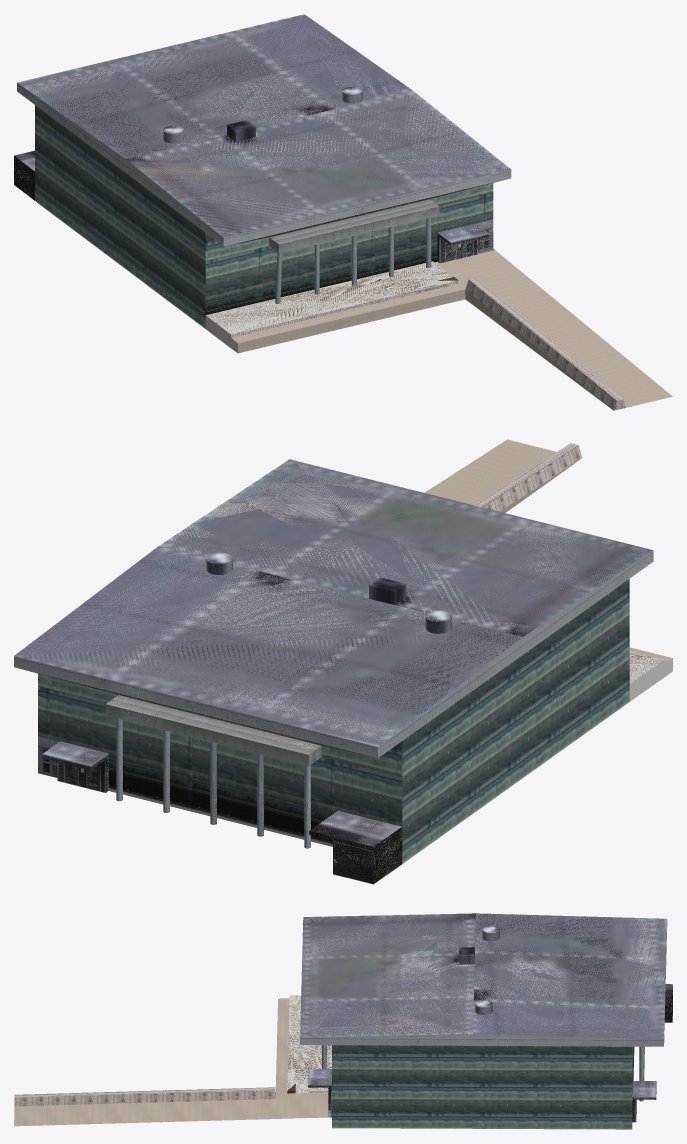
Rendered from Lindellhallen.dae.
The picture shows the model from 3 angles, top to bottom: view 1: azimuth 30°, elevation 25°; view 2: azimuth 150°, elevation 25°; view 3: azimuth 270°, elevation 25°; orthographic projection. The views are drawn at different scales.
Visible parts, largest first — view 1: SketchUp (×15); view 2: SketchUp (×17); view 3: SketchUp (×10).
Part boxes in pixels (x1,y1,x2,y2): SketchUp (×15): (14,14,672,410); SketchUp (×17): (14,439,664,884); SketchUp (×10): (14,913,667,1129).
Bounding box in the file's own units: 1538 × 3505 × 610.
Materials: 33 (32 with a texture image).
